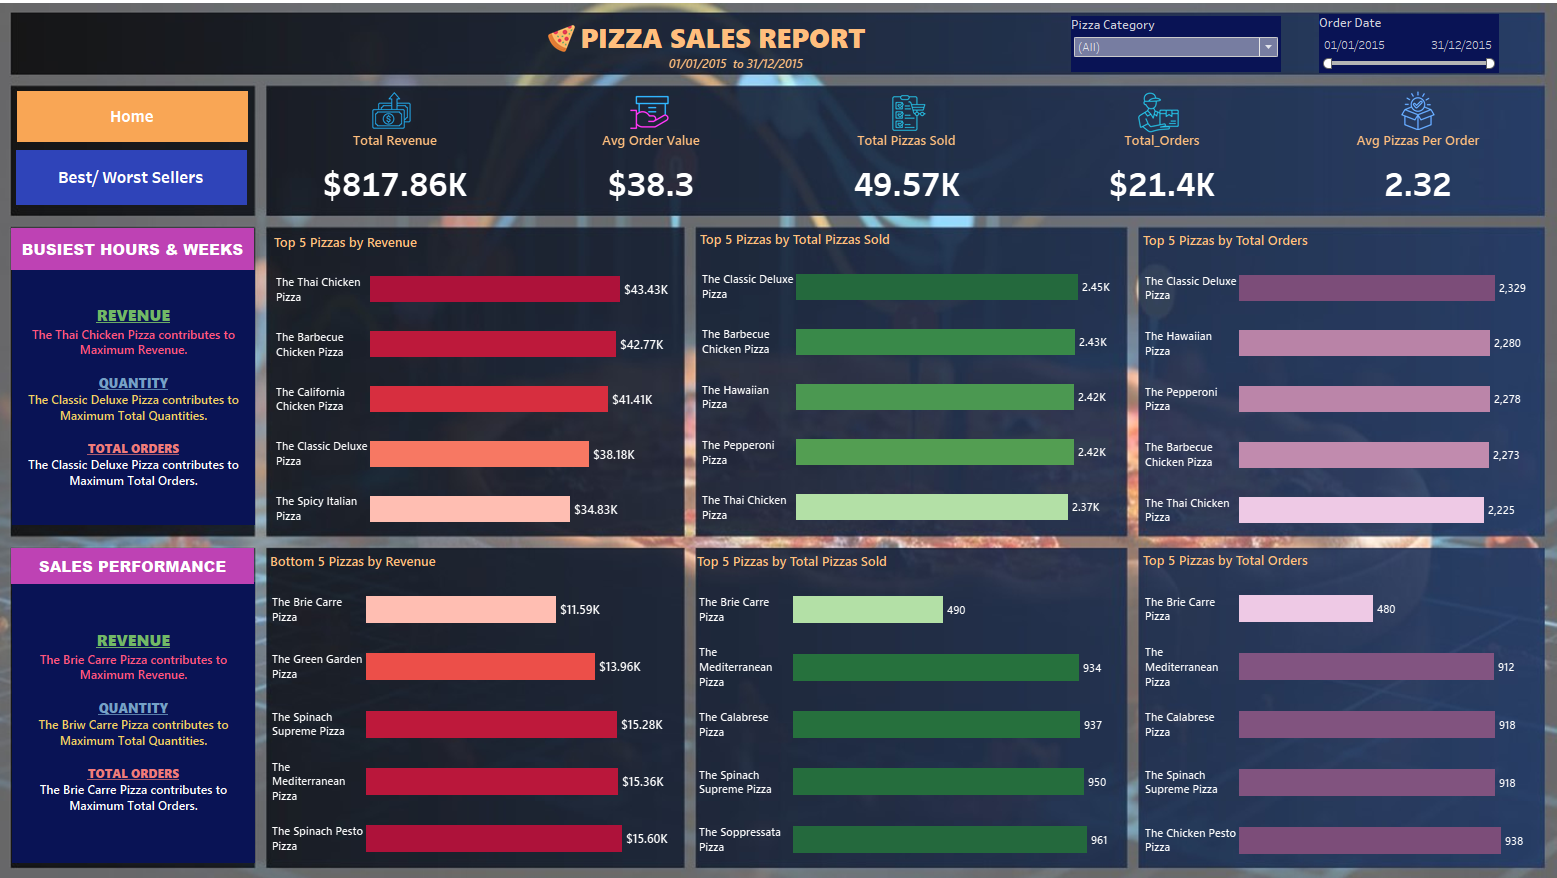

The page's visual inventory and layout, read from the dashboard file:
{"tool":"tableau","page":{"name":"Best / Worst Sellers","canvas":[1600,900],"ordinal":0},"visuals":[{"type":"image","param":"E:/Data/SQL/Projects/Pizza Tableau 2.jpg","box":[8,8,1584,884]},{"type":"text","box":[511,21,466,50]},{"type":"filter","title":"KPI Banner","param":"[federated.0rc17ho0k1unk21fje6au02swnq1].[none:order_date:qk]","box":[1340,23,180,59]},{"type":"filter","title":"KPI Banner","param":"[federated.0rc17ho0k1unk21fje6au02swnq1].[none:pizza_category:nk]","box":[1092,25,210,56]},{"type":"image","param":"E:/Data/SQL/Projects/Pizza_sales/Pizza Sales Images-20231016T125009Z-001/Pizza S","box":[557,33,51,28]},{"type":"worksheet","title":"Sheet 7","mark":"Automatic","box":[658,61,197,22]},{"type":"image","param":"E:/Data/SQL/Projects/Pizza_sales/Pizza Sales Images-20231016T125009Z-001/Pizza S","box":[380,97,65,44]},{"type":"image","param":"E:/Data/SQL/Projects/Pizza_sales/Pizza Sales Images-20231016T125009Z-001/Pizza S","box":[635,99,71,44]},{"type":"dashboard-object","box":[38,100,231,51]},{"type":"image","param":"E:/Data/SQL/Projects/Pizza_sales/Pizza Sales Images-20231016T125009Z-001/Pizza S","box":[1145,100,68,42]},{"type":"image","param":"E:/Data/SQL/Projects/Pizza_sales/Pizza Sales Images-20231016T125009Z-001/Pizza S","box":[1410,100,58,39]},{"type":"image","param":"E:/Data/SQL/Projects/Pizza_sales/Pizza Sales Images-20231016T125009Z-001/Pizza S","box":[893,103,74,37]},{"type":"worksheet","title":"KPI Banner","mark":"Automatic","box":[288,139,1279,85]},{"type":"dashboard-object","box":[37,159,231,55]},{"type":"worksheet","title":"Top 5 Pizzas by Total Pizzas Sold","mark":"Automatic","rows":["pizza_name"],"cols":["Calculation_548031791776968707"],"box":[717,235,432,309]},{"type":"worksheet","title":"Top 5 Pizzas by Total Orders","mark":"Automatic","rows":["pizza_name"],"cols":["Calculation_548031791776460801"],"box":[1160,236,405,311]},{"type":"text","box":[32,237,243,42]},{"type":"worksheet","title":"Top 5 Pizzas by Revenue","mark":"Automatic","rows":["pizza_name"],"cols":["Calculation_548031791775846400"],"box":[291,238,415,307]},{"type":"text","box":[33,279,243,255]},{"type":"worksheet","title":"Bottom 5 Pizzas by Total Orders (2)","mark":"Automatic","rows":["pizza_name"],"cols":["Calculation_548031791776460801"],"box":[1160,556,402,322]},{"type":"text","box":[32,557,243,36]},{"type":"worksheet","title":"Bottom 5 Pizzas by Revenue (2)","mark":"Automatic","rows":["pizza_name"],"cols":["Calculation_548031791775846400"],"box":[287,557,419,319]},{"type":"worksheet","title":"Bottom 5 Pizzas by Total Pizzas Sold (2)","mark":"Automatic","rows":["pizza_name"],"cols":["Calculation_548031791776968707"],"box":[714,557,436,320]},{"type":"text","box":[33,591,243,281]}]}

Visuals, with their boxes in screenshot pixels (x1, y1, x2, y2), scaled from the page's 1600x900 canvas onto the 1557x878 screenshot:
image: 8, 8, 1549, 870
text: 497, 20, 951, 69
"KPI Banner" filter: 1304, 22, 1479, 80
"KPI Banner" filter: 1063, 24, 1267, 79
image: 542, 32, 592, 60
"Sheet 7" worksheet: 640, 60, 832, 81
image: 370, 95, 433, 138
image: 618, 97, 687, 140
dashboard-object: 37, 98, 262, 147
image: 1114, 98, 1180, 139
image: 1372, 98, 1429, 136
image: 869, 100, 941, 137
"KPI Banner" worksheet: 280, 136, 1525, 219
dashboard-object: 36, 155, 261, 209
"Top 5 Pizzas by Total Pizzas Sold" worksheet: 698, 229, 1118, 531
"Top 5 Pizzas by Total Orders" worksheet: 1129, 230, 1523, 534
text: 31, 231, 268, 272
"Top 5 Pizzas by Revenue" worksheet: 283, 232, 687, 532
text: 32, 272, 269, 521
"Bottom 5 Pizzas by Total Orders (2)" worksheet: 1129, 542, 1520, 857
text: 31, 543, 268, 579
"Bottom 5 Pizzas by Revenue (2)" worksheet: 279, 543, 687, 855
"Bottom 5 Pizzas by Total Pizzas Sold (2)" worksheet: 695, 543, 1119, 856
text: 32, 577, 269, 851
